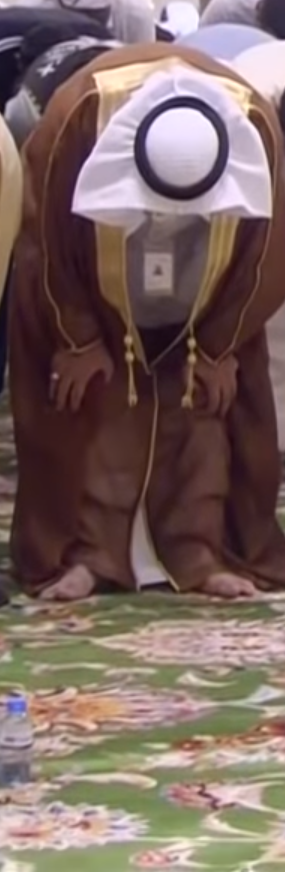ruku: (9, 33, 285, 626)
